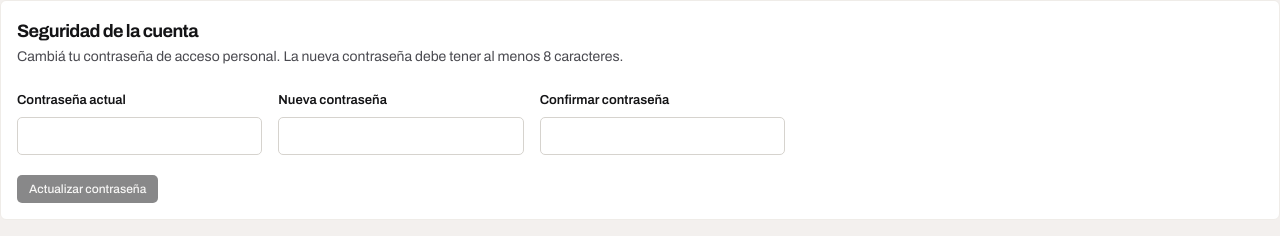
Test: CambiarPasswordCard › habilita el botón cuando los tres campos tienen contenido
Type "actual123" into the password field labelled "Contraseña actual" at (140, 136), box [17, 116, 262, 155]
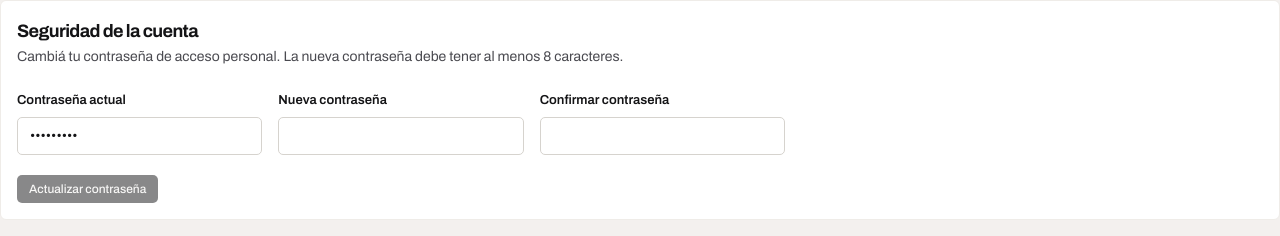
Type "nueva1234" into the password field labelled "Nueva contraseña" at (401, 136), box [278, 116, 524, 155]
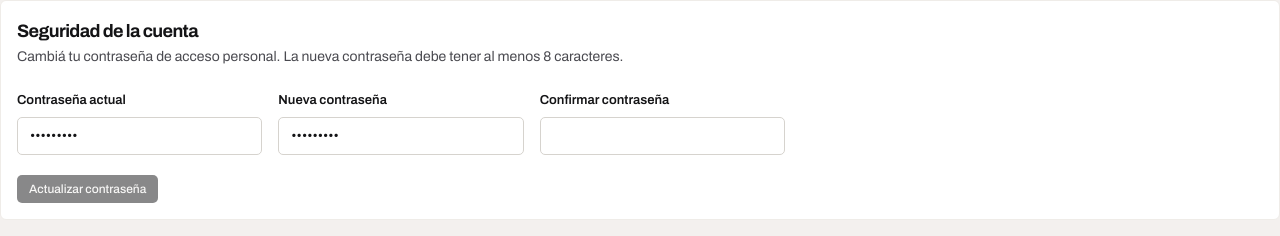
Type "nueva1234" into the password field labelled "Confirmar contraseña" at (662, 136), box [540, 116, 785, 155]
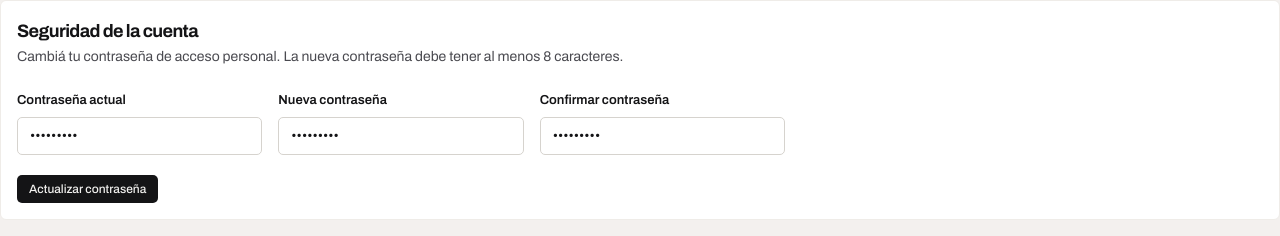
Now the button "Actualizar contraseña" is enabled, box [17, 175, 158, 203]
